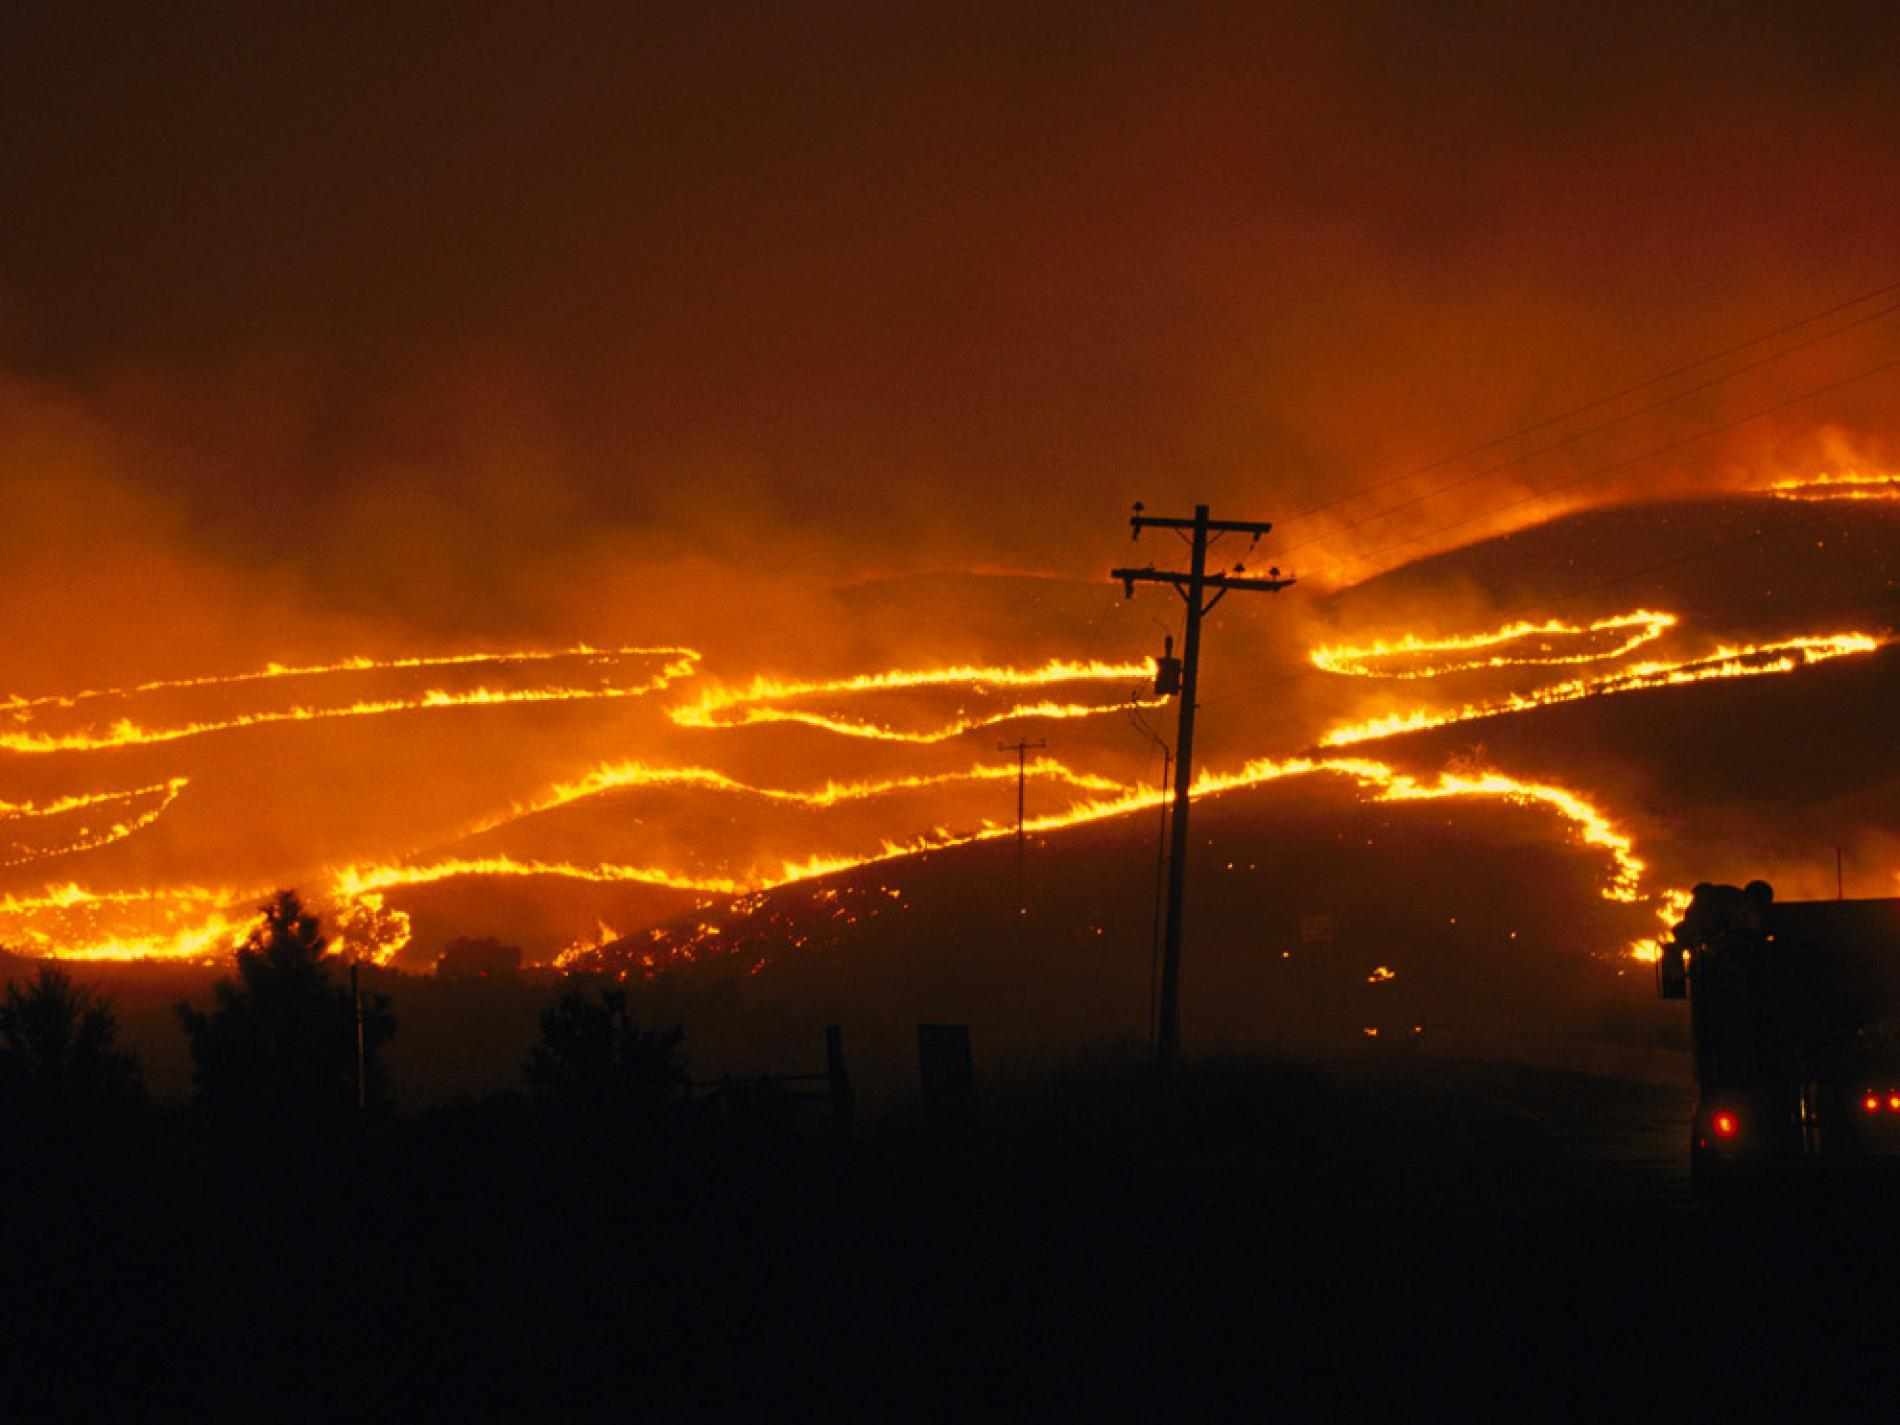Fire: (19, 460, 1900, 985)
